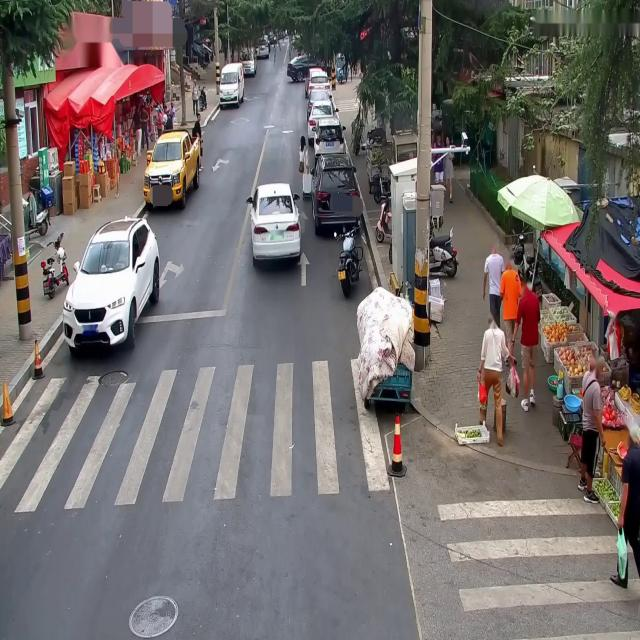fixed_stall: (536, 292, 640, 533), (74, 98, 158, 194), (454, 420, 489, 447)
sunshade: (539, 205, 640, 313), (43, 61, 166, 110), (496, 172, 578, 232)
